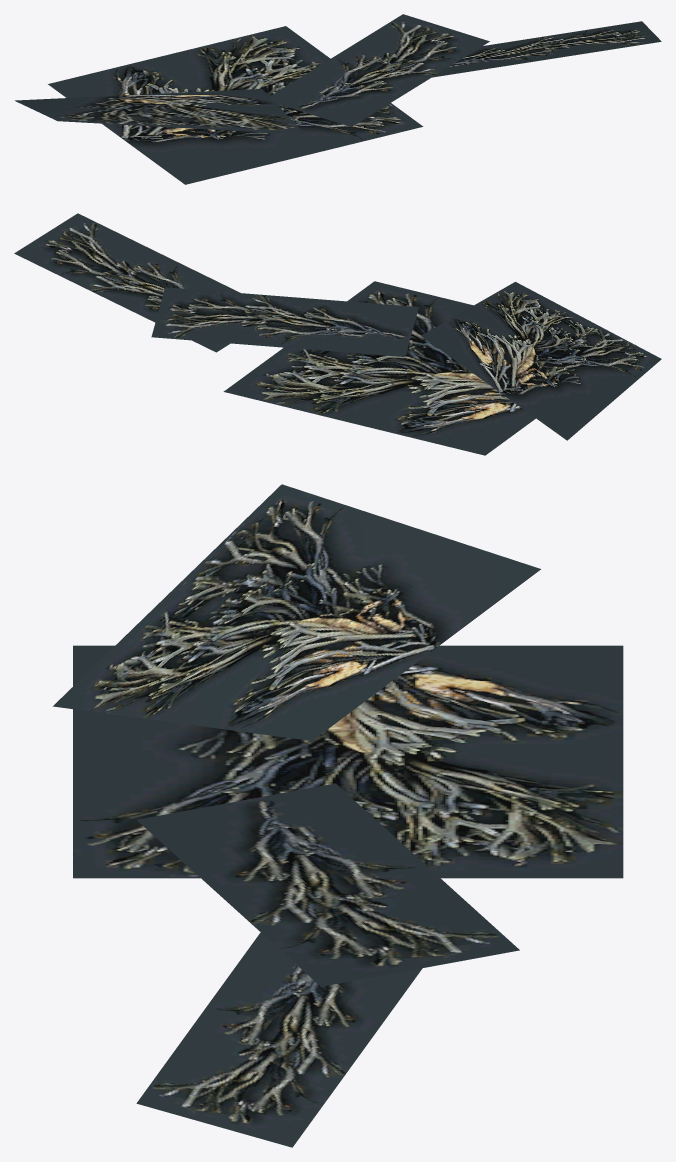
The model's file is shor_seaweed_clump_l1.fbx.
The picture shows the model from 3 angles, top to bottom: view 1: azimuth 30°, elevation 25°; view 2: azimuth 150°, elevation 25°; view 3: azimuth 270°, elevation 25°; orthographic projection. The views are drawn at different scales.
Visible parts, largest first — view 1: mesh_node; view 2: mesh_node; view 3: mesh_node.
Boxes of the visible parts, box(x1,y1,x2,y2) form: mesh_node: box(15, 14, 661, 184); mesh_node: box(14, 213, 661, 455); mesh_node: box(53, 484, 623, 1147).
Bounding box in the file's own units: 2.91 × 0.2689 × 1.23.
